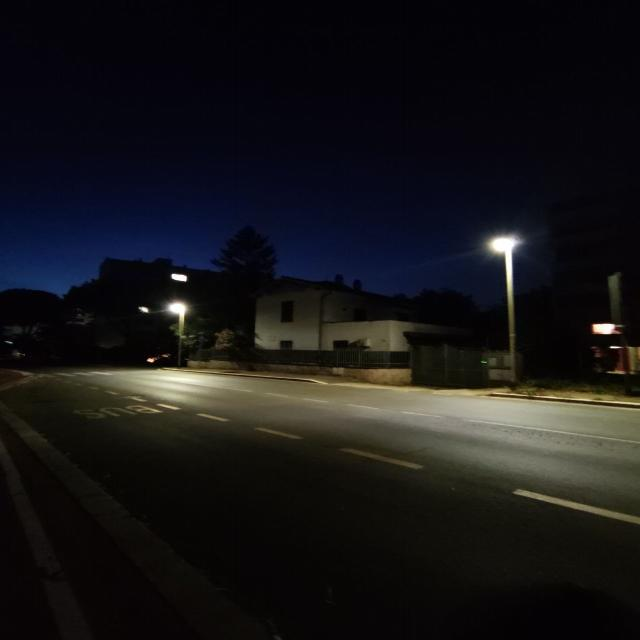lampione: (484, 232, 522, 258), (160, 293, 193, 322)
